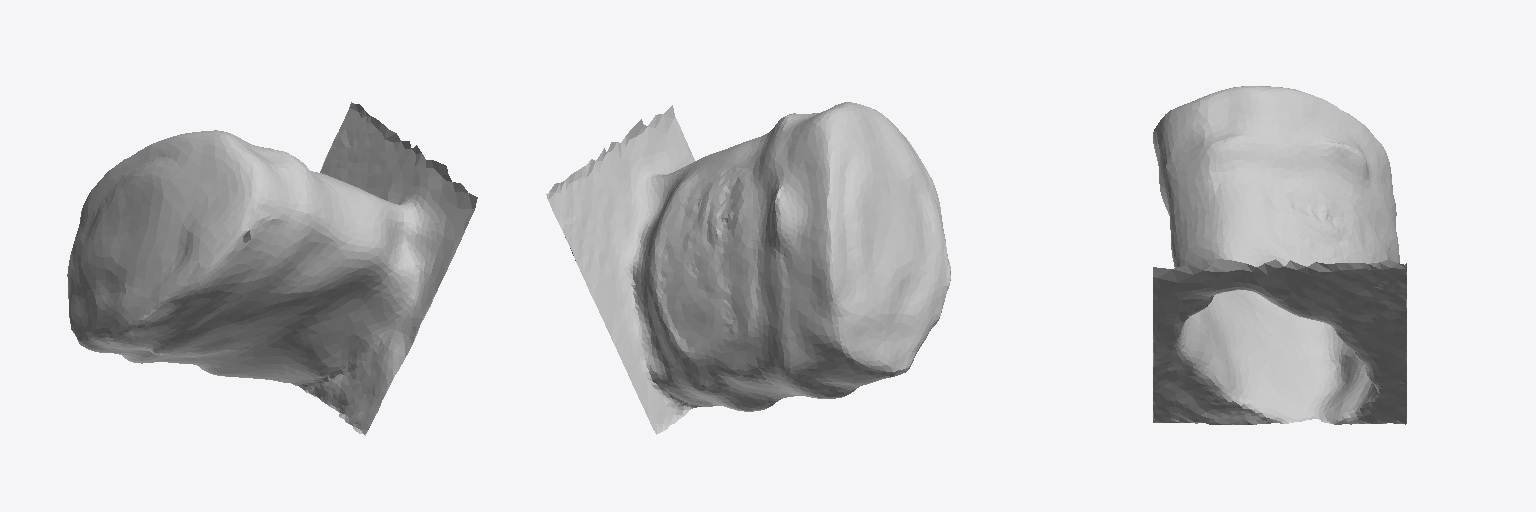
Rendered from 26 Apr 2023.obj.
The picture shows the model from 3 angles: view 1: azimuth 30°, elevation 25°; view 2: azimuth 150°, elevation 25°; view 3: azimuth 270°, elevation 25°; orthographic projection.
Size of the model in its own units: 0.4037 by 0.3524 by 0.2792.